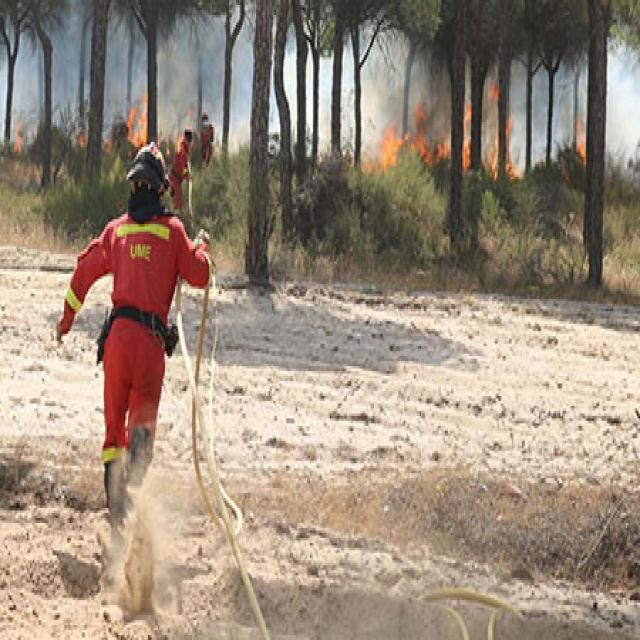Fire: (357, 94, 522, 184), (122, 88, 148, 151), (568, 112, 588, 167)
